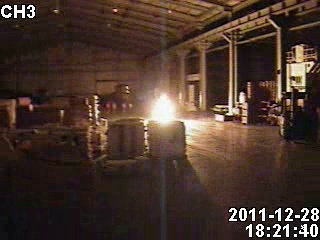fire: (148, 88, 180, 125)
